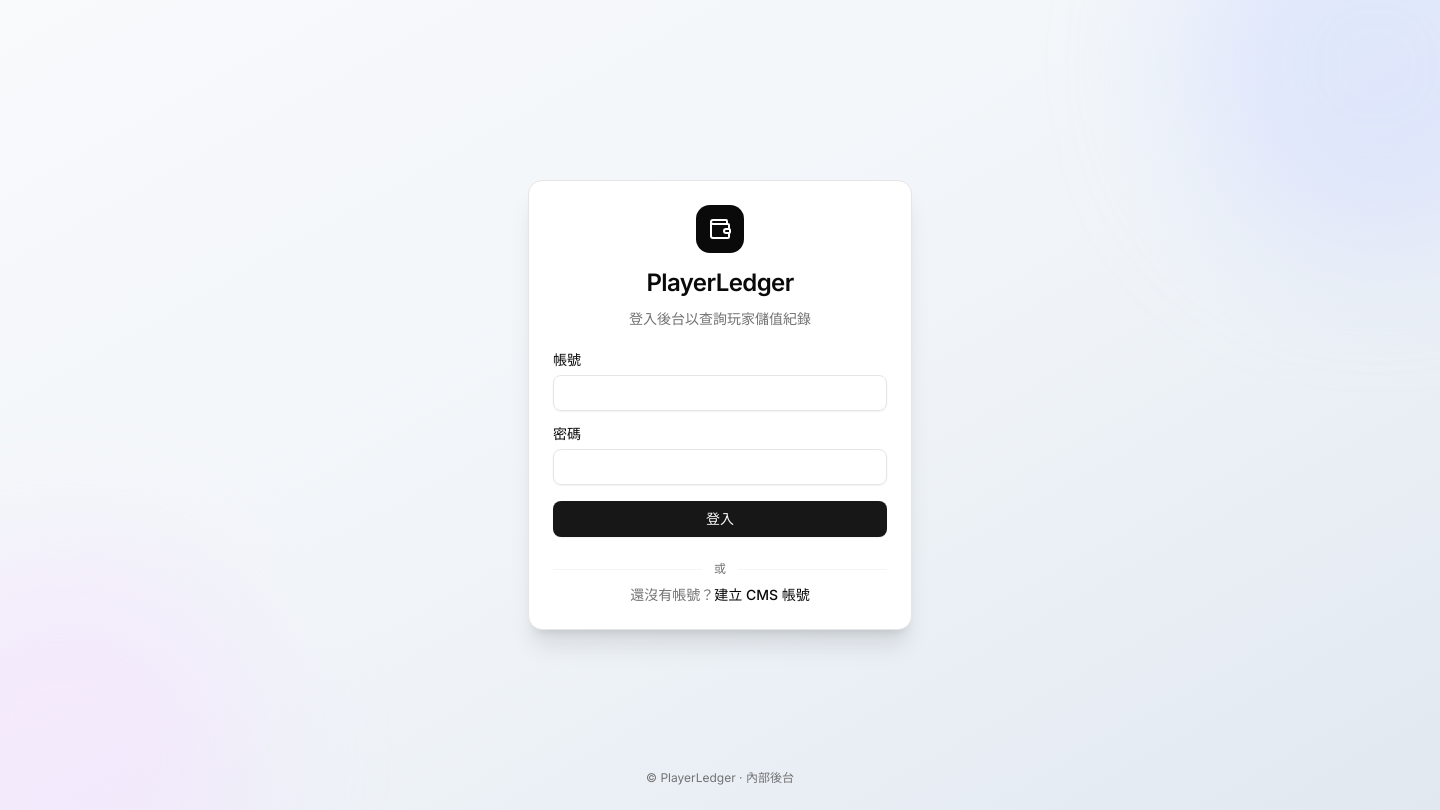
it: LoginPage › should render an alert with the backend message when the API returns an error
In the field labelled "帳號": (720,393) [553,375,887,411], type "alice"
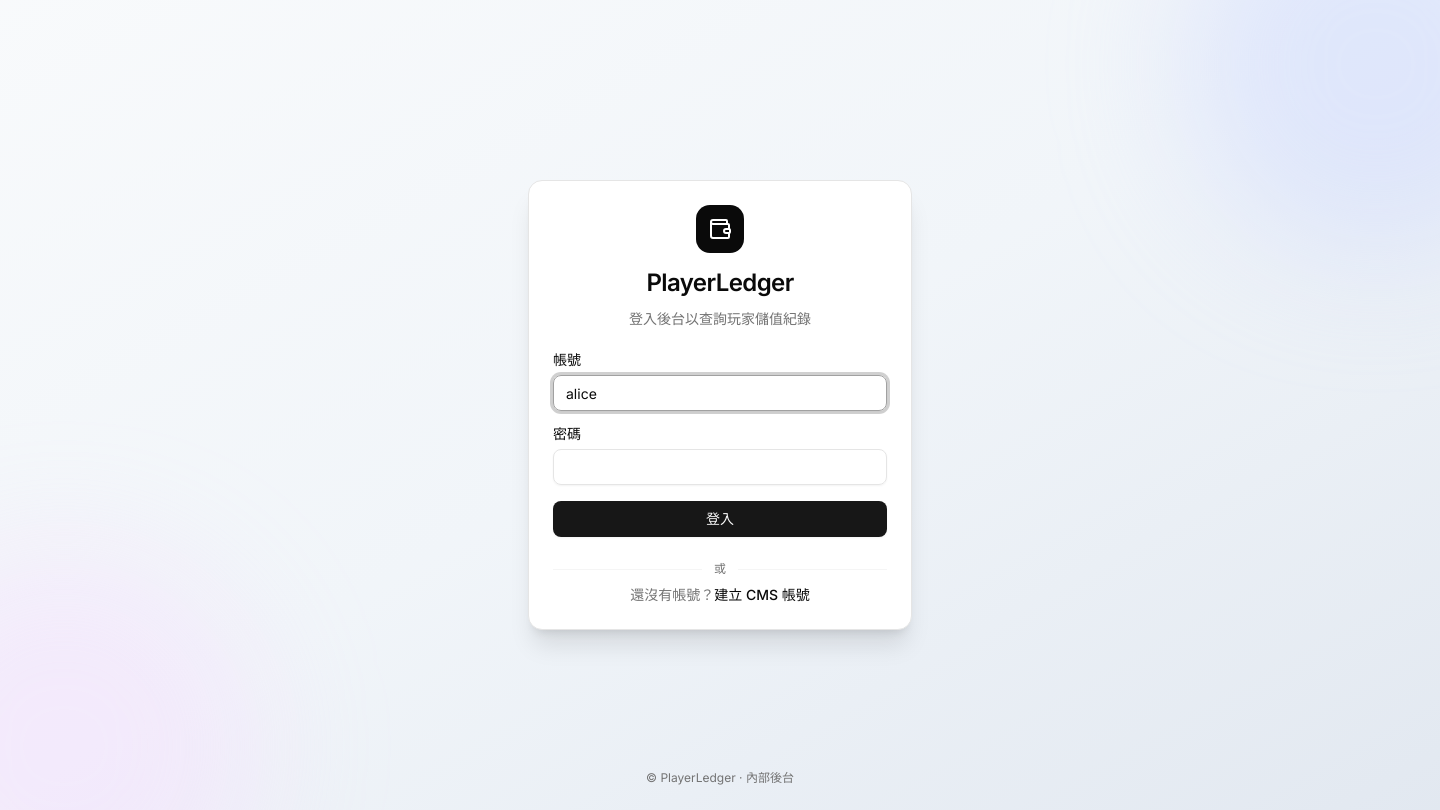
In the password field labelled "密碼": (720,467) [553,449,887,485], type "wrong"
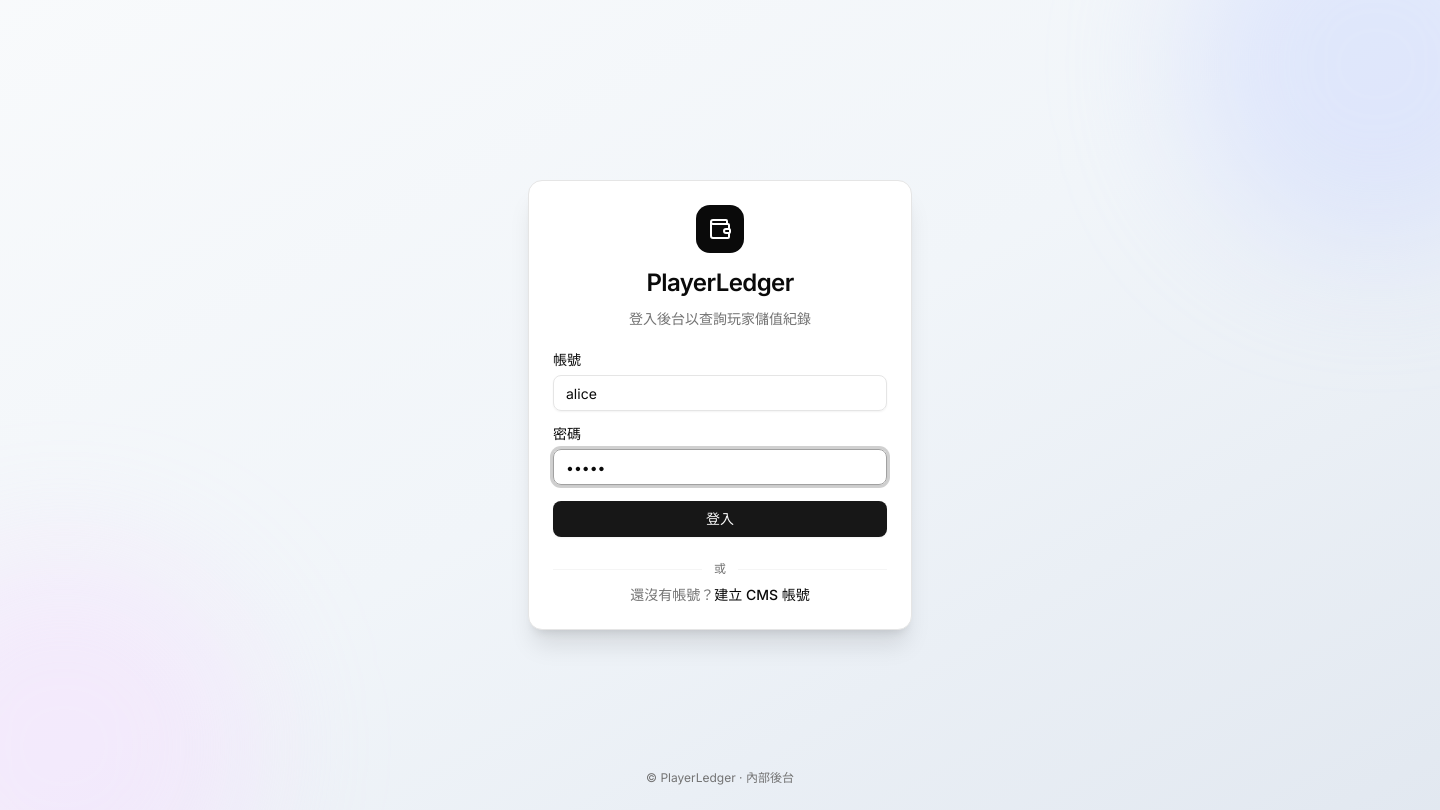
Click the button "登入": (720,519) [553,501,887,537]
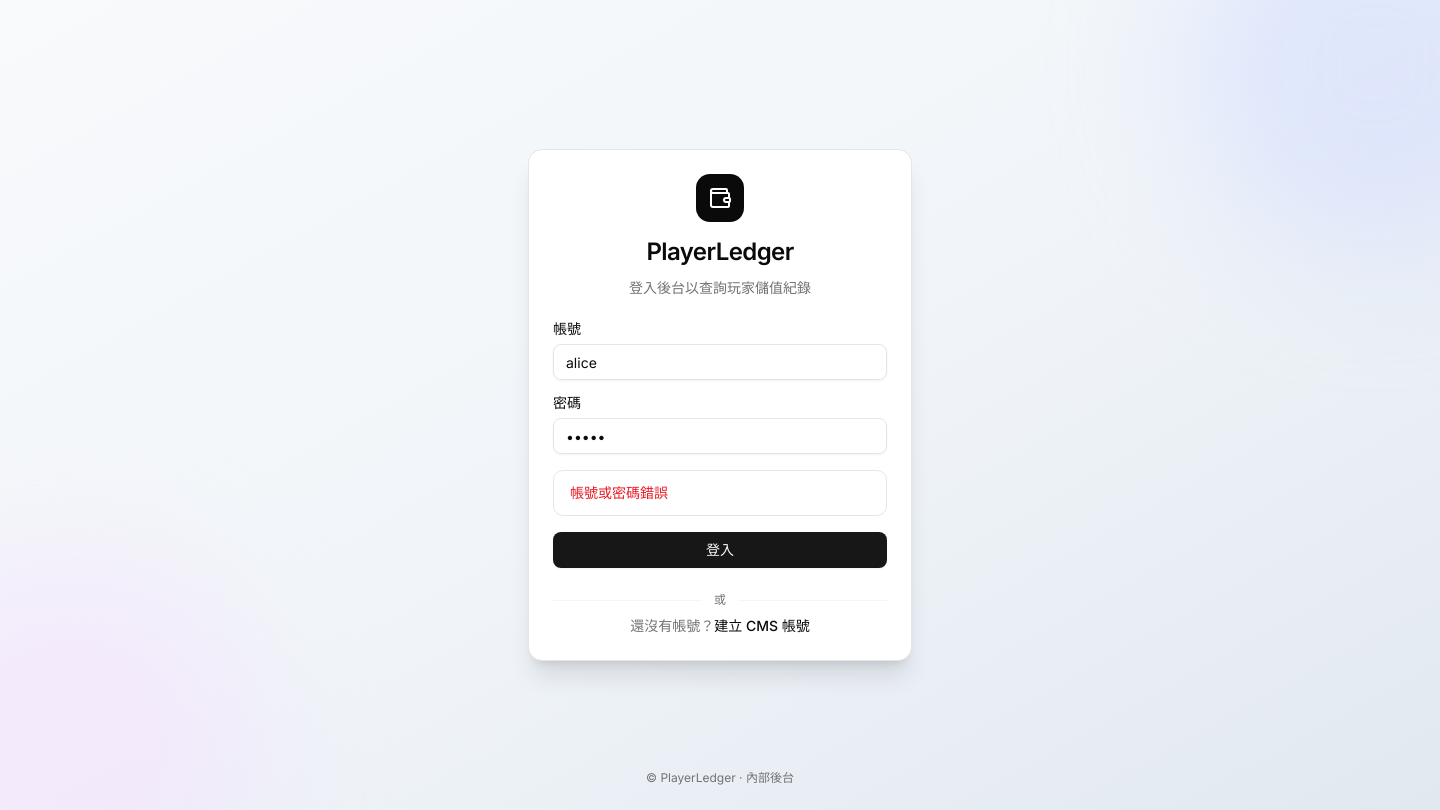
Expected: the message reads "帳號或密碼錯誤", [570,484,668,501]
